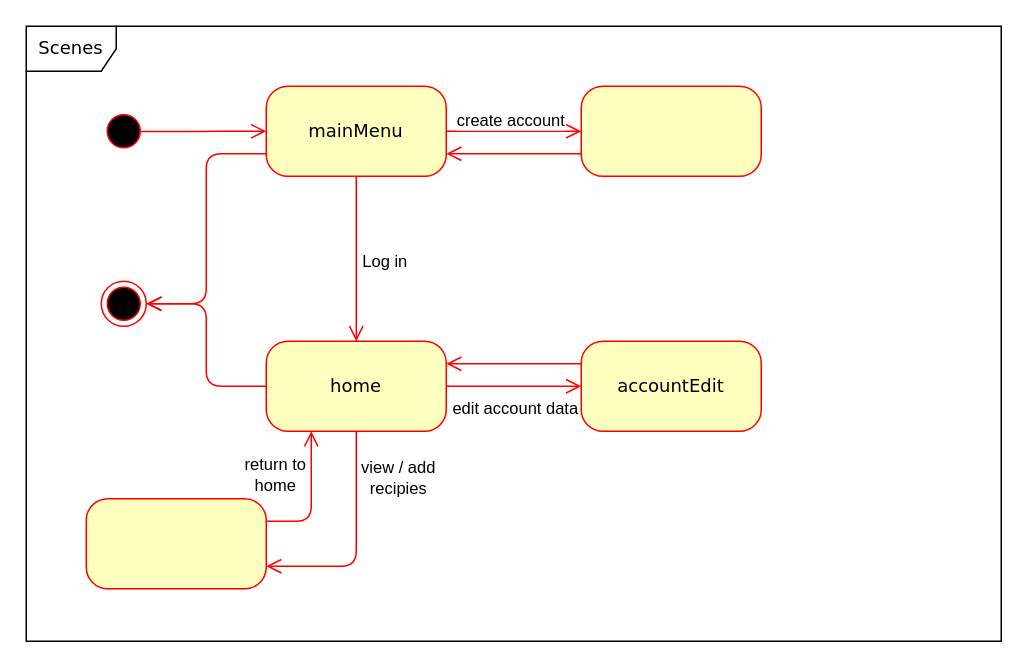
Some shapes in this 1028 by 668 pixel diagram are drawn without their labels. The shapes that lost their labels are listed below. From the top down, each one's centre as x and y in pixels, then its label:
At (x=670, y=130): "account".
At (x=175, y=543): "recipies".
